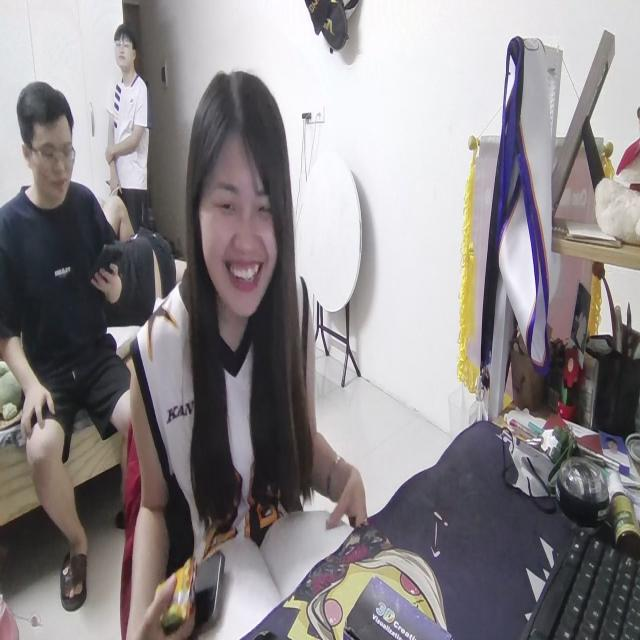book: (190, 497, 345, 635)
extra_person: (1, 82, 149, 604), (106, 16, 157, 230)
phone: (190, 548, 225, 636)
student: (126, 63, 366, 640)
